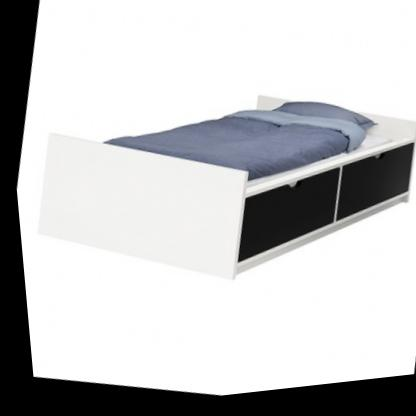Bed: (10, 37, 416, 338)
